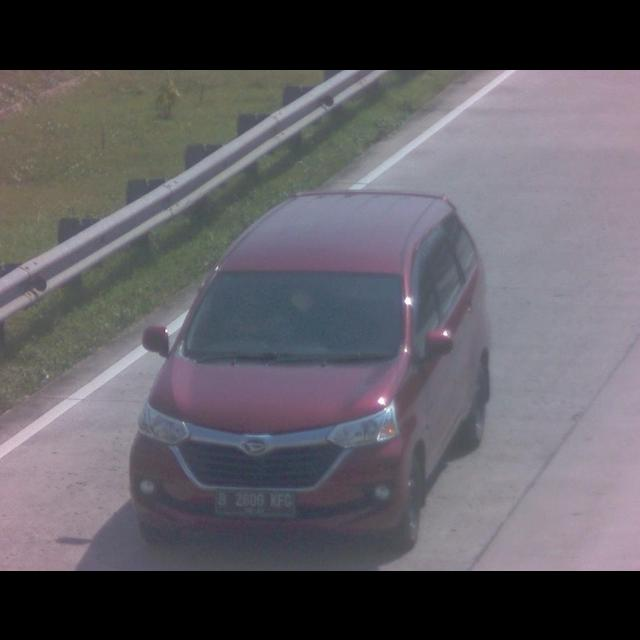plate: (215, 486, 295, 517)
